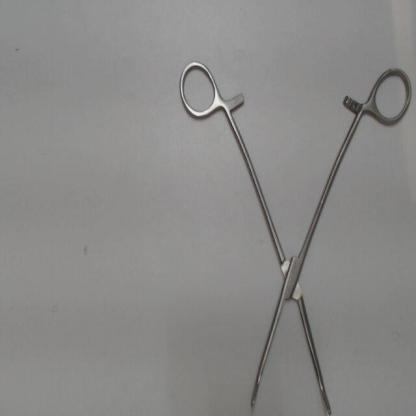Lahey Forceps: (170, 54, 413, 414)
